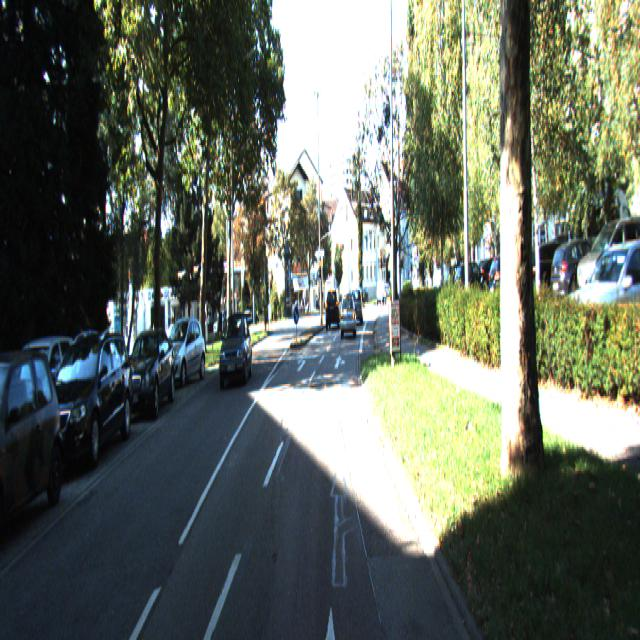Car: (32, 330, 135, 482), (0, 341, 66, 562), (119, 325, 176, 417), (158, 316, 206, 386), (218, 313, 253, 387), (340, 296, 355, 339)
